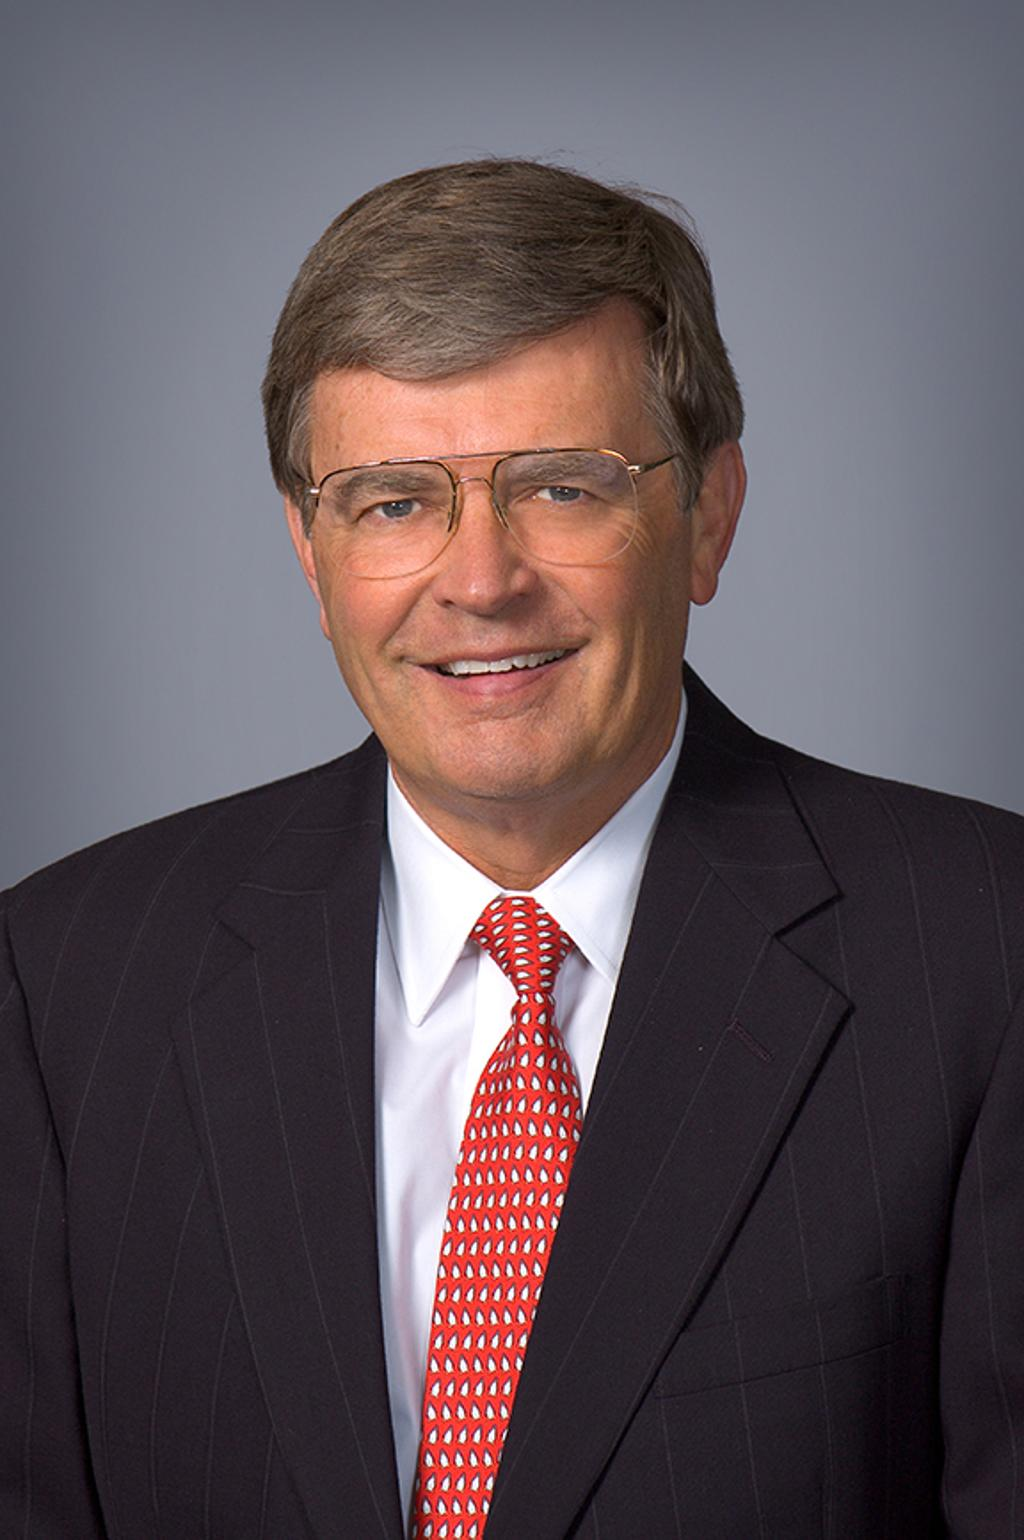face: (312, 345, 687, 789)
